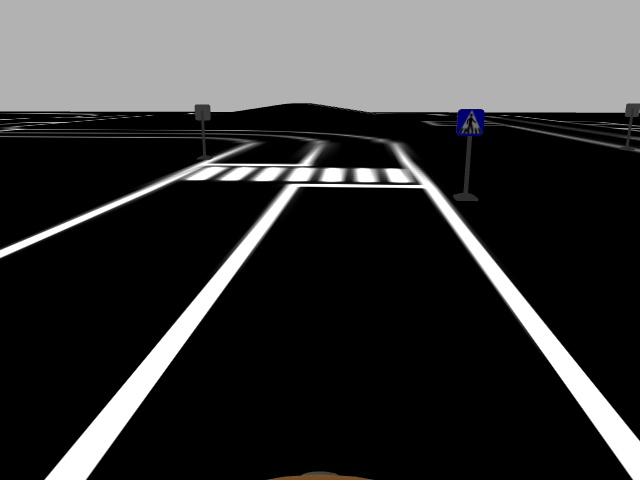crosswalk: (455, 106, 486, 138)
